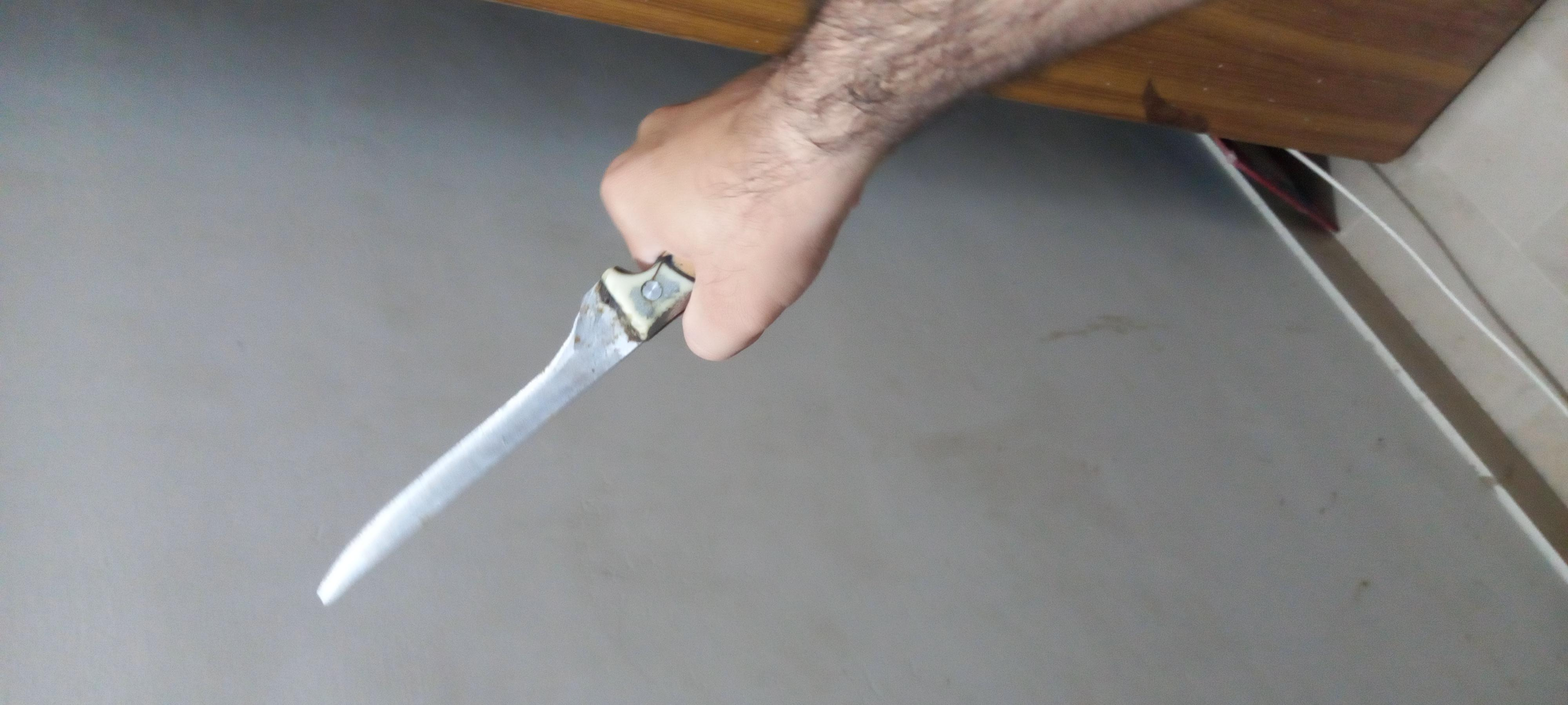knives: (186, 133, 1013, 332)
